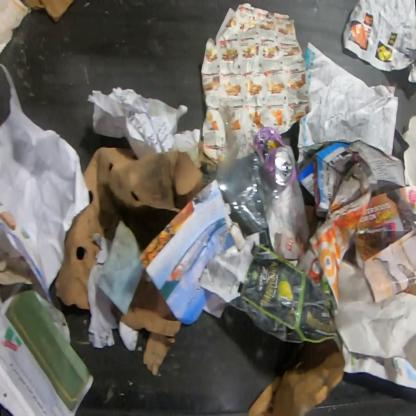cardboard: (54, 140, 218, 310), (308, 161, 372, 309), (247, 339, 346, 415), (111, 278, 182, 376), (21, 0, 76, 23), (401, 114, 416, 186), (306, 204, 320, 234)
metal: (254, 126, 298, 190)
soft_plastic: (208, 104, 280, 237)
